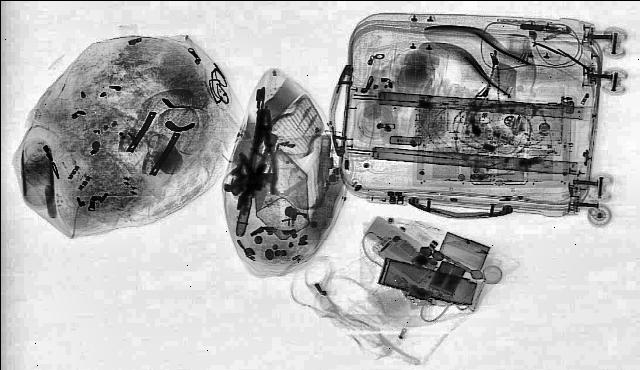Pliers: (246, 108, 278, 196)
